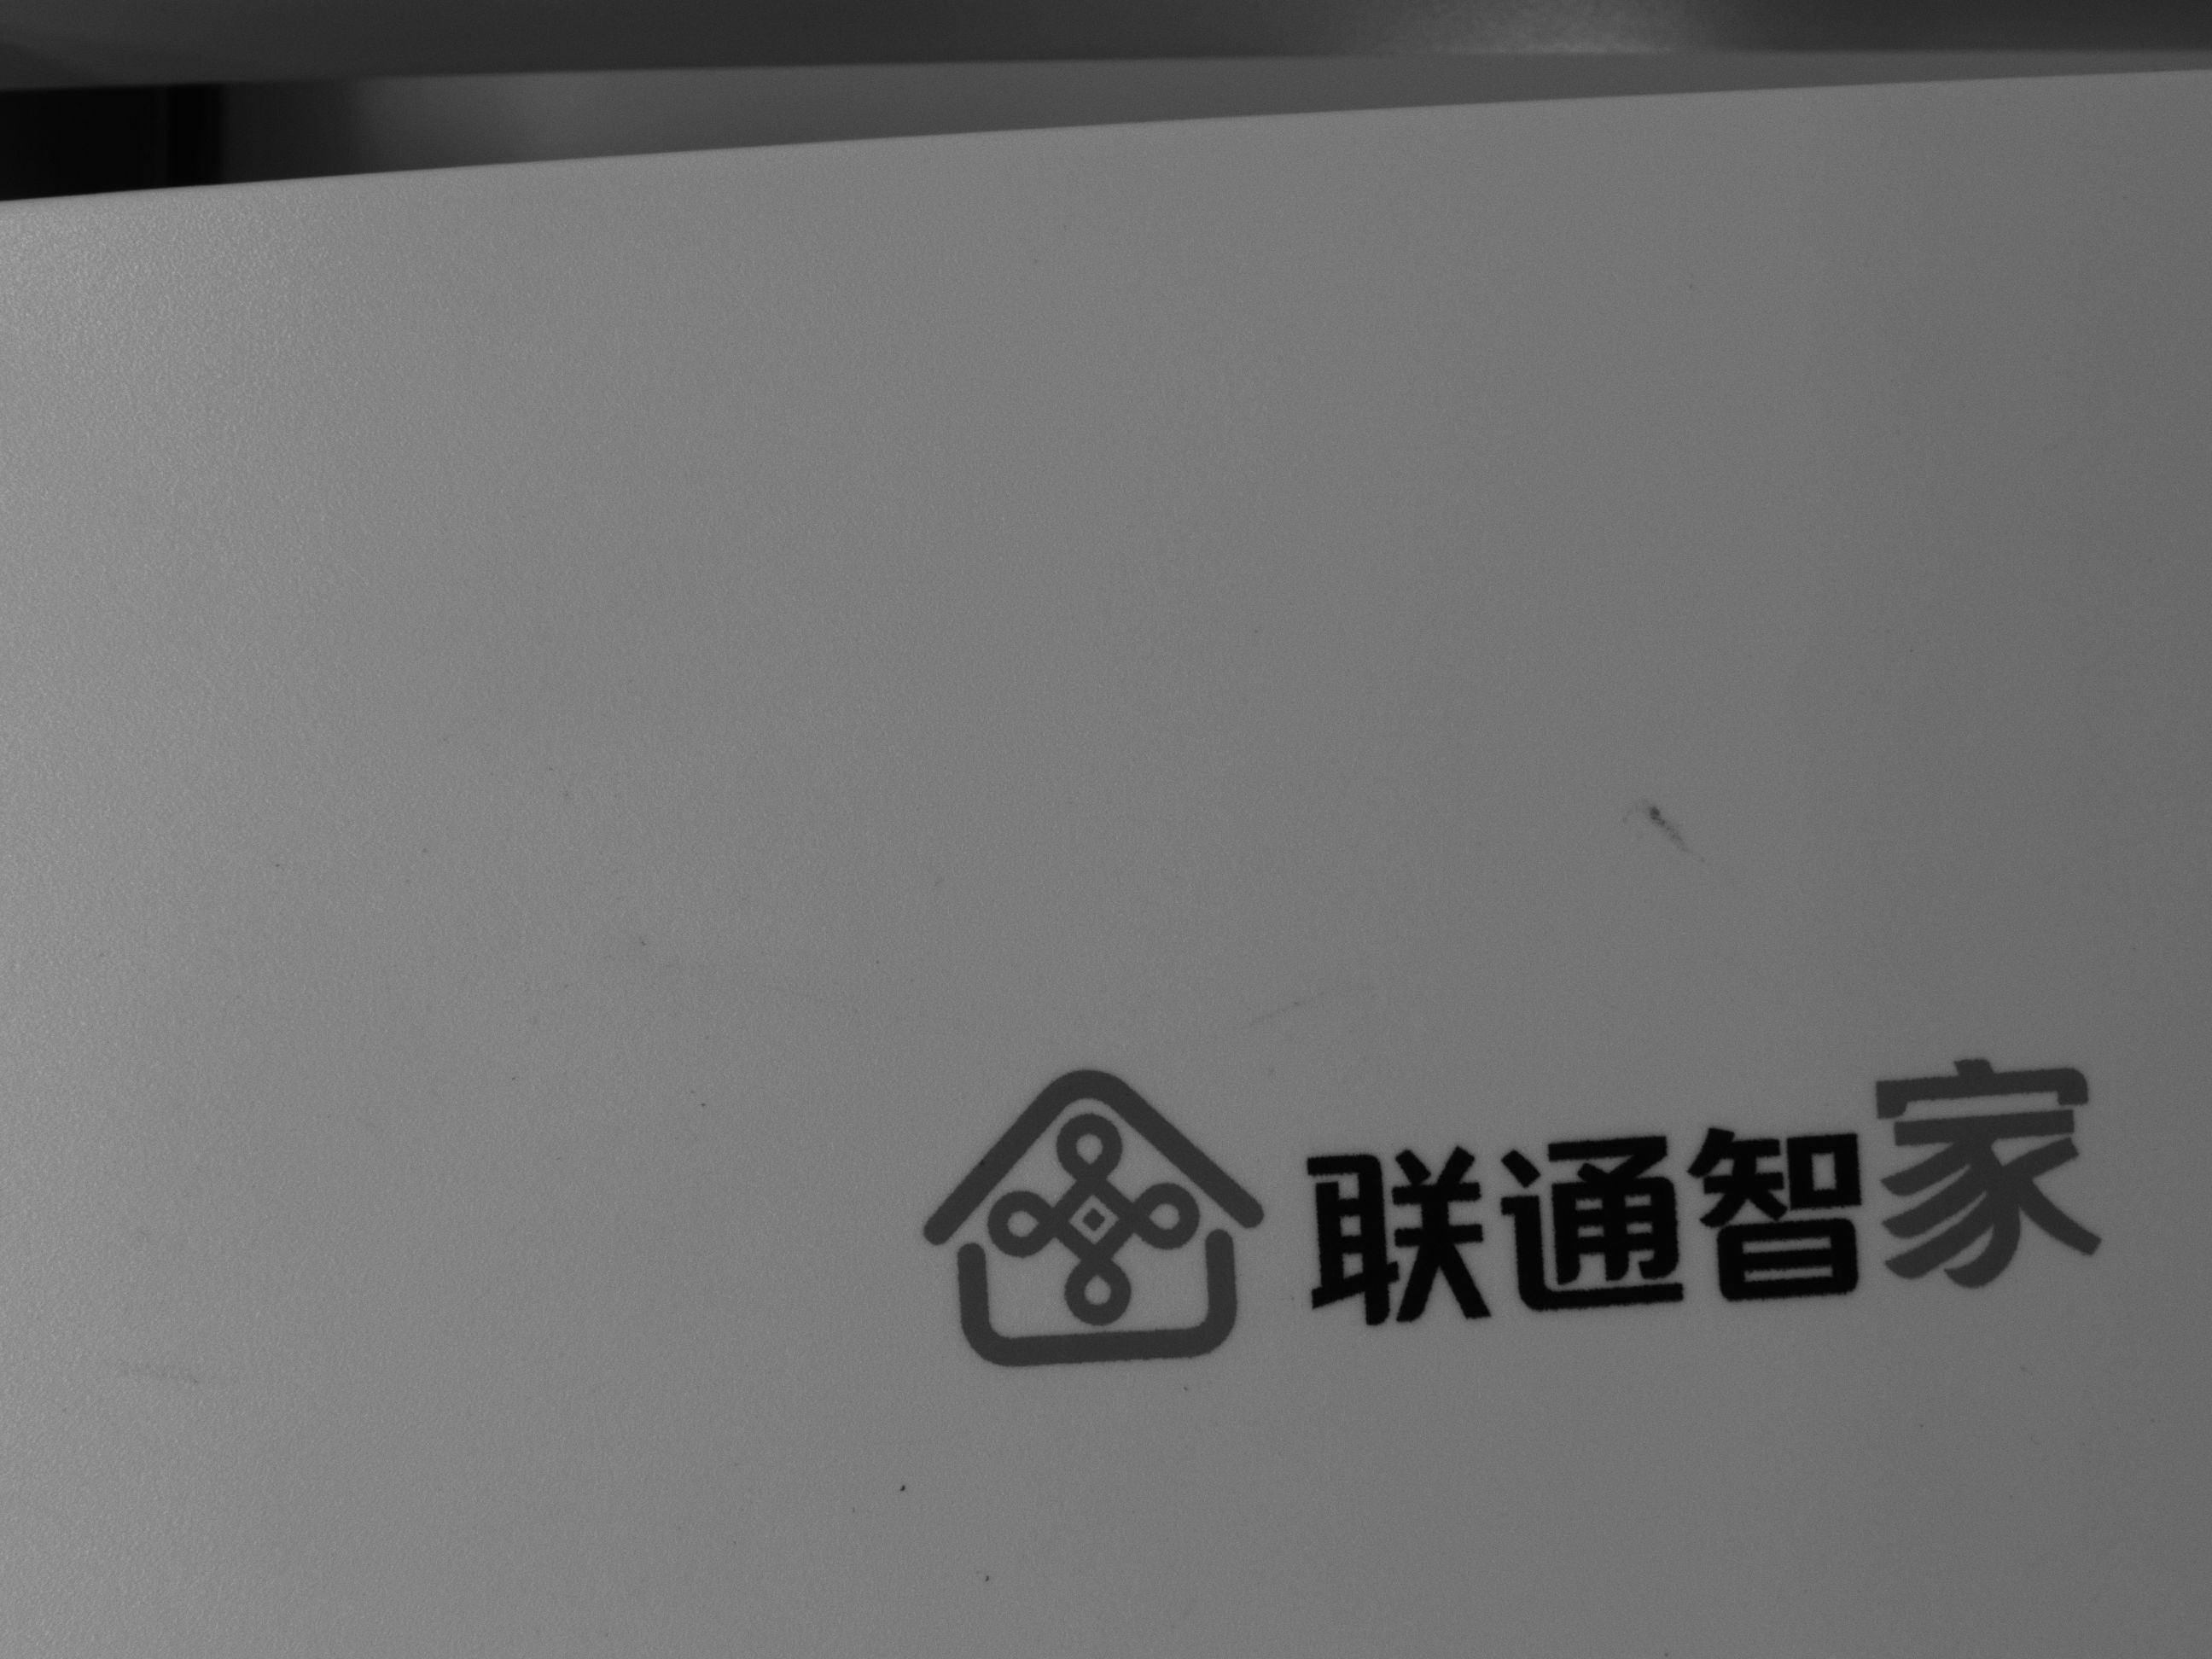BY_F6610Unicome: (862, 1019, 2137, 1392)
